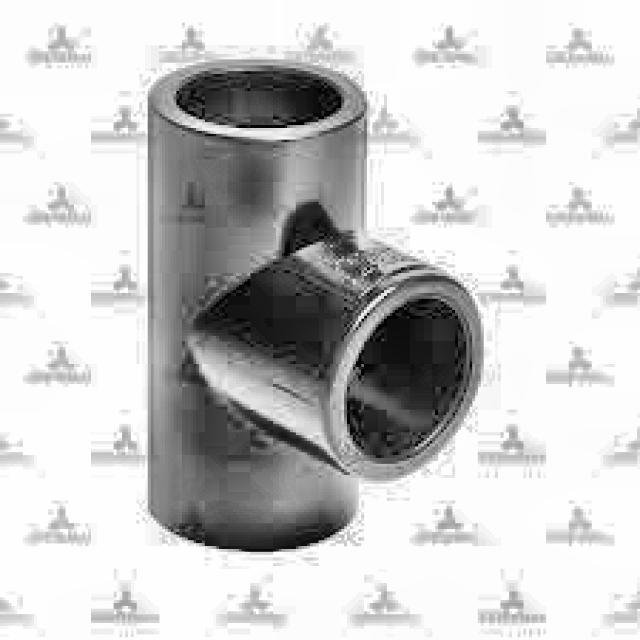EQUALTEE: (145, 60, 481, 555)
